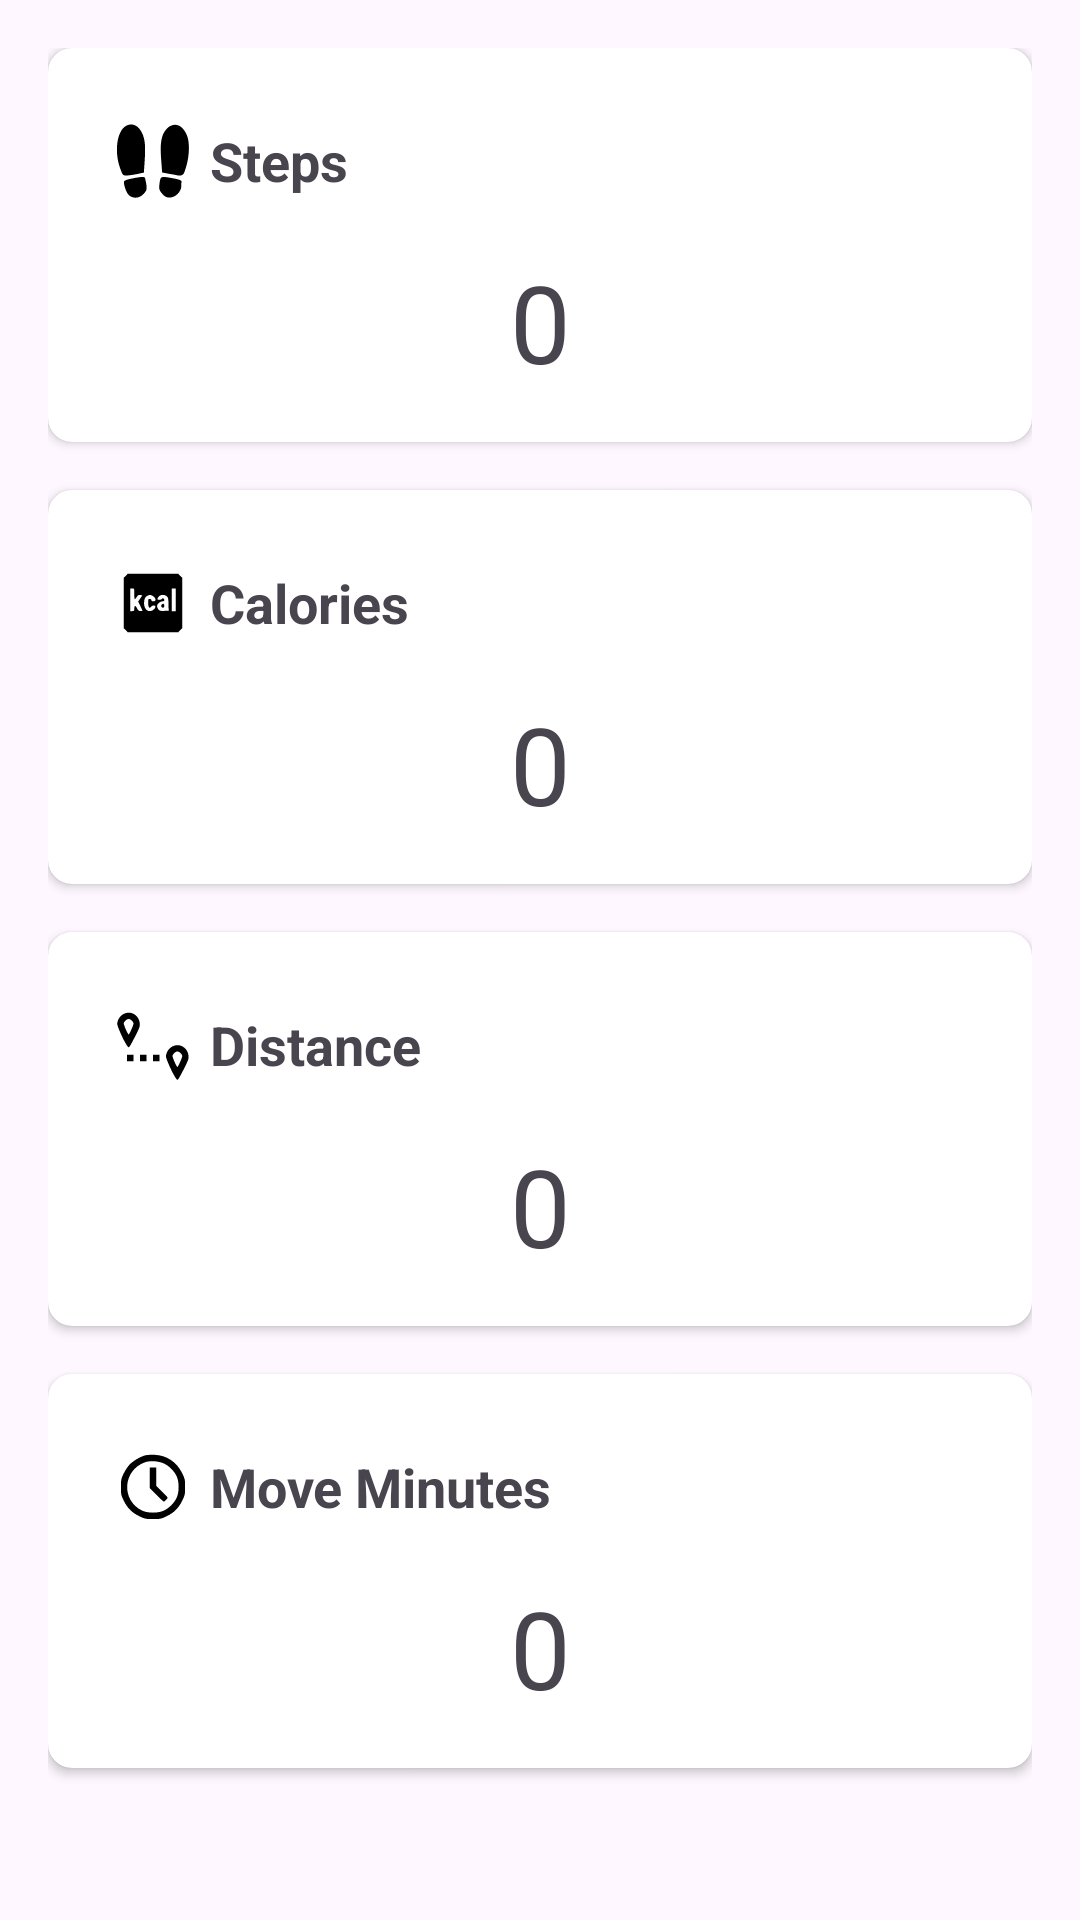

Icon bounding boxes for this 1080w x 1920h phone screenshot, format region(x1, y1, x2, y2):
boot print: region(117, 124, 189, 198)
clock: region(121, 1454, 185, 1519)
itinerary: region(117, 1012, 189, 1080)
